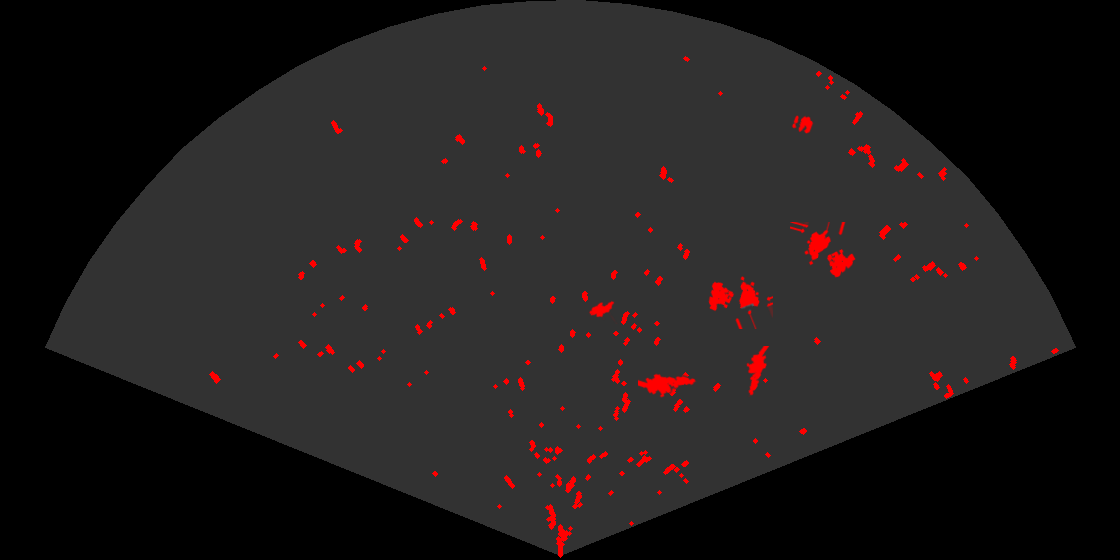AUV: (588, 299, 619, 324)
ball: (790, 114, 815, 135)
cage: (790, 222, 857, 279), (707, 275, 773, 329)
frogman: (638, 372, 697, 399), (745, 346, 771, 397)
